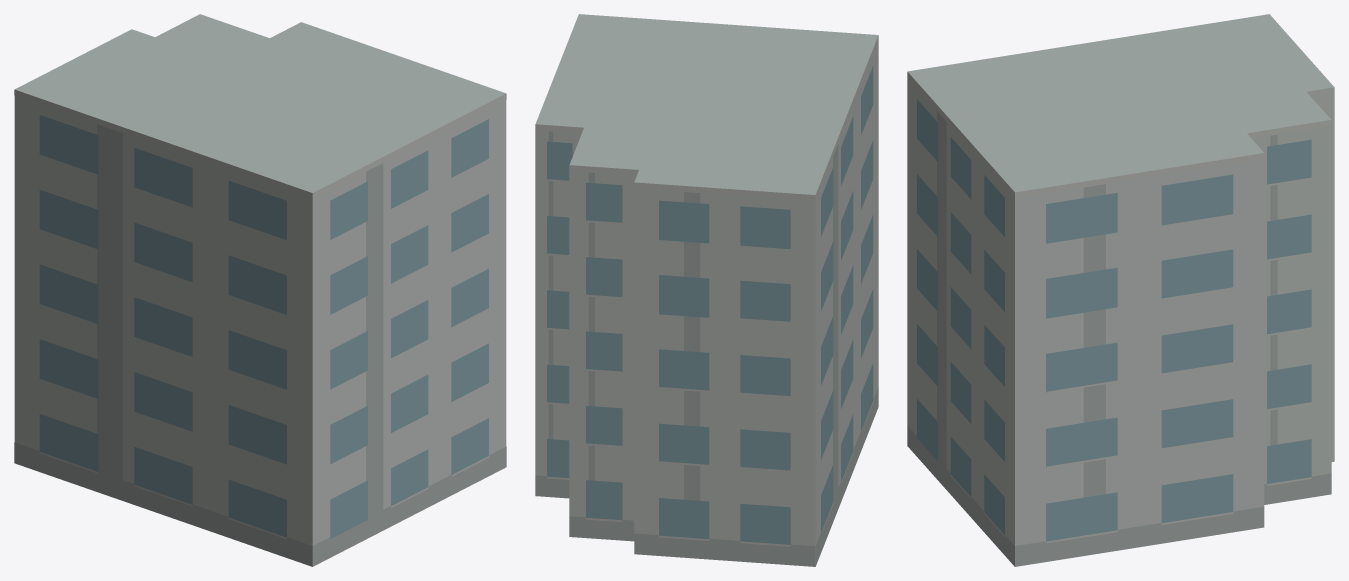
File: residential-6f7c8668-745d-48b2-ac31-5989afe86418.glb
The picture shows the model from 3 angles, left to right: view 1: azimuth 30°, elevation 25°; view 2: azimuth 150°, elevation 25°; view 3: azimuth 270°, elevation 25°; orthographic projection.
Visible parts, largest first — view 1: residential-6f7c8668-745d-48b2-ac31-5989afe86418.tmp; view 2: residential-6f7c8668-745d-48b2-ac31-5989afe86418.tmp; view 3: residential-6f7c8668-745d-48b2-ac31-5989afe86418.tmp.
Boxes of the visible parts, <box> form: residential-6f7c8668-745d-48b2-ac31-5989afe86418.tmp: <box>14,14,506,566</box>; residential-6f7c8668-745d-48b2-ac31-5989afe86418.tmp: <box>535,14,878,566</box>; residential-6f7c8668-745d-48b2-ac31-5989afe86418.tmp: <box>907,14,1334,566</box>.
Bounding box in the file's own units: 15.34 × 15 × 15.52.
